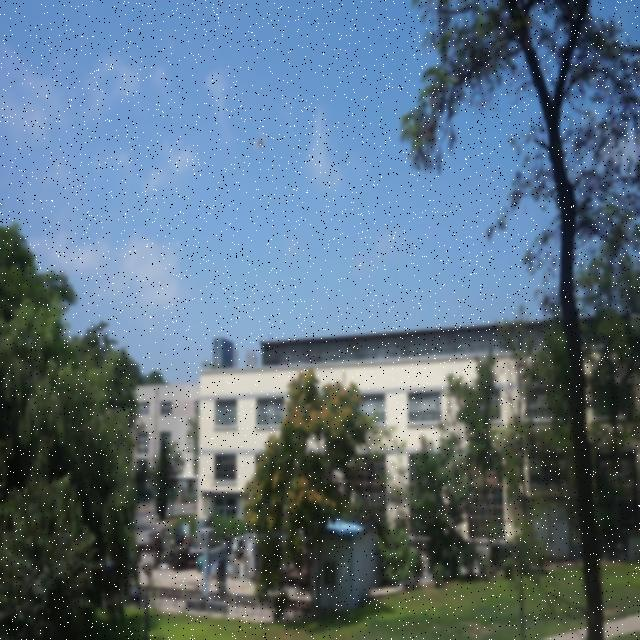UAV: (253, 132, 266, 151)
